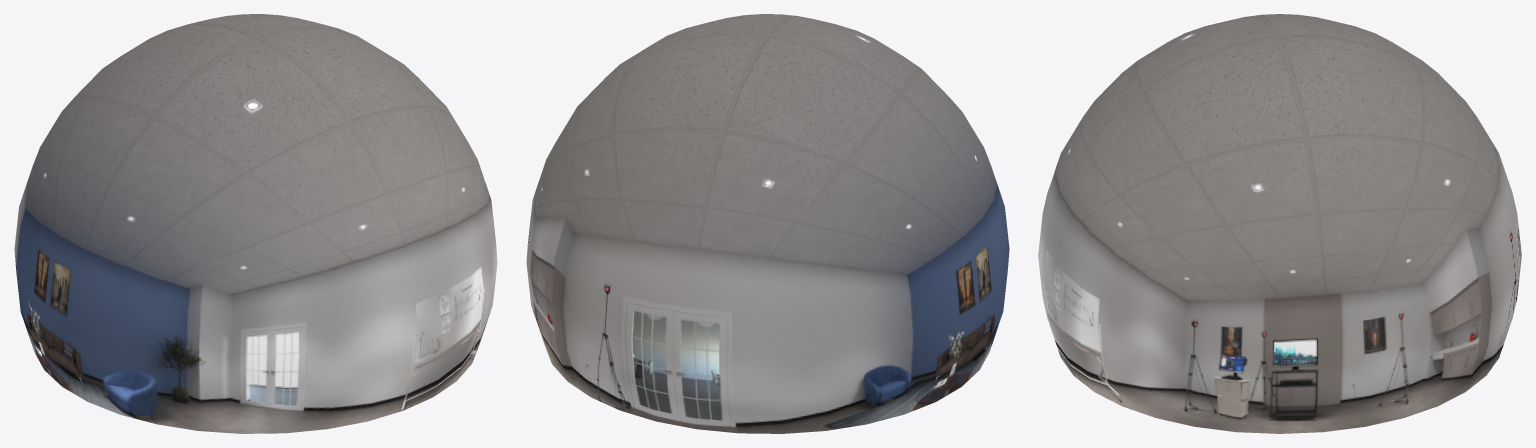
File: Interior 63.glb
3 renders of one model, left to right at view 1: azimuth 30°, elevation 25°; view 2: azimuth 150°, elevation 25°; view 3: azimuth 270°, elevation 25°, orthographic.
Visible parts, largest first — view 1: Sphere; view 2: Sphere; view 3: Sphere.
Part boxes in pixels (box(x1,y1,x2,y2)): Sphere: box(14, 14, 497, 433); Sphere: box(526, 14, 1009, 433); Sphere: box(1038, 14, 1521, 433).
Bounding box in the file's own units: 6 × 4.15 × 6.
Materials: 1 (1 with a texture image).
